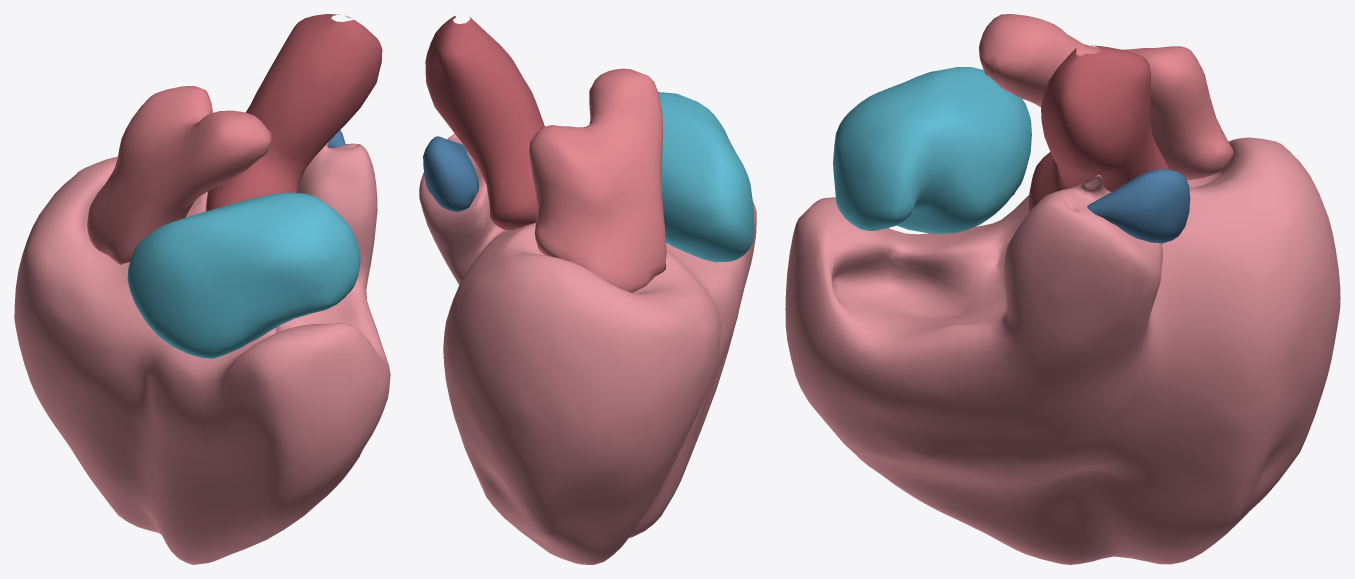
Rendered from frame_41.glb.
3 views of the same model, side by side, from view 1: azimuth 30°, elevation 25°; view 2: azimuth 150°, elevation 25°; view 3: azimuth 270°, elevation 25° (orthographic). The views are drawn at different scales.
Visible parts, largest first — view 1: Renderer Node; view 2: Renderer Node; view 3: Renderer Node.
Boxes of the visible parts, <box> form: Renderer Node: <box>14,14,390,564</box>; Renderer Node: <box>419,16,756,564</box>; Renderer Node: <box>785,14,1340,564</box>.
Size of the model in its own units: 107 by 164 by 136.
